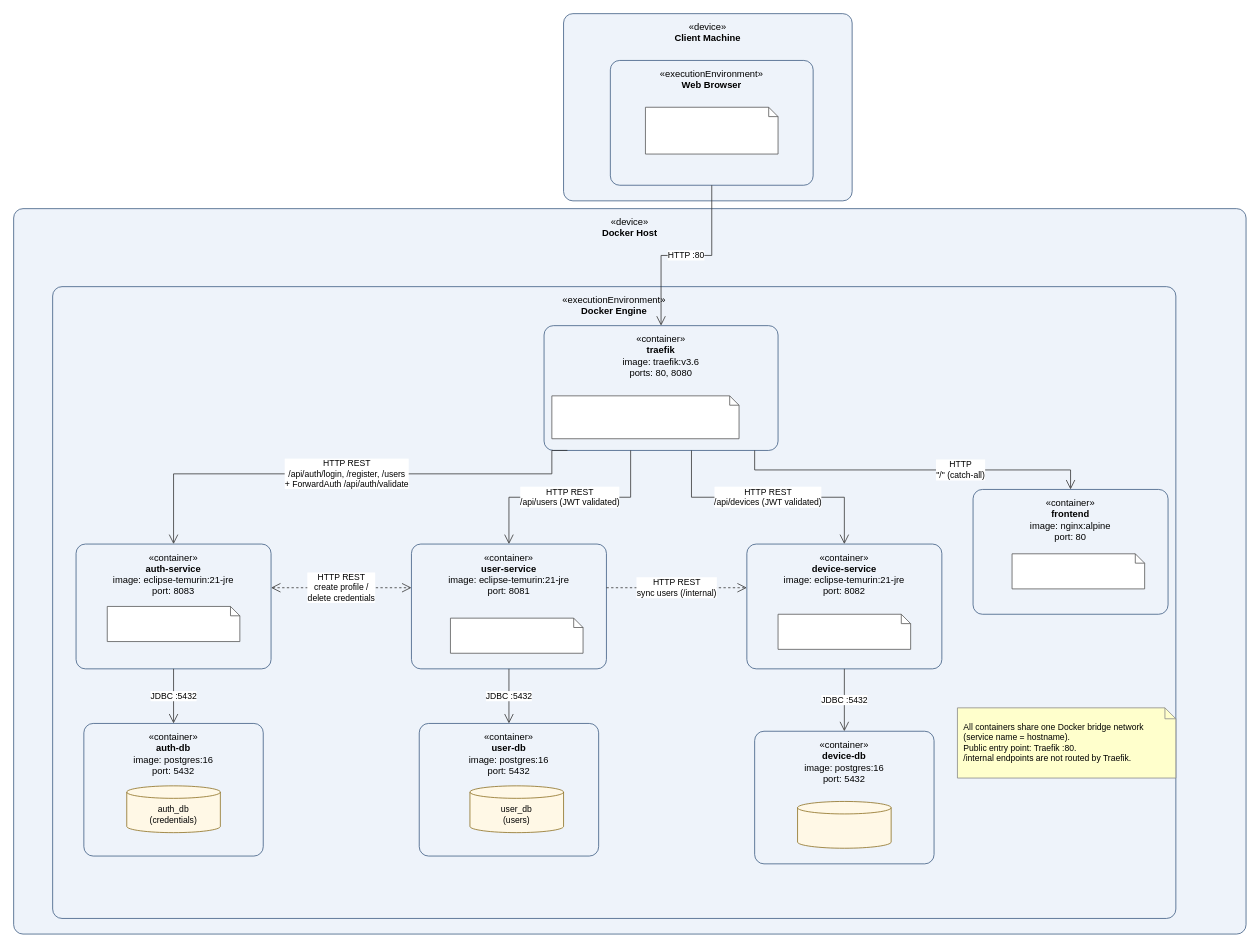
This 1260x948 diagram has some shape labels left out. The centre of each missing label's shape, as x and y in pixels:
device_db (devices, users): the point at 844,824
«artifact» auth-service.jar: the point at 173,624
«artifact» device-service.jar: the point at 844,631
«artifact» dist/ (static build): the point at 1078,571
«artifact» React SPA (HTML + JS + CSS): the point at 711,130
«artifact» Reverse Proxy / API Gateway (ForwardAuth: jwt-auth): the point at 645,417
«artifact» user-service.jar: the point at 516,635
